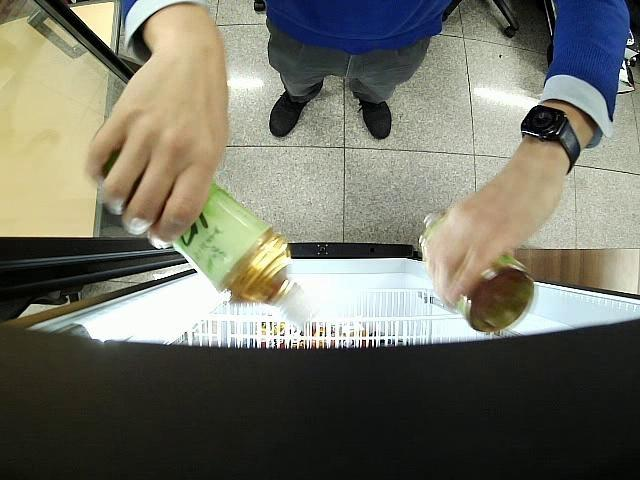19_17cha: (171, 181, 318, 324), (420, 212, 536, 332)
